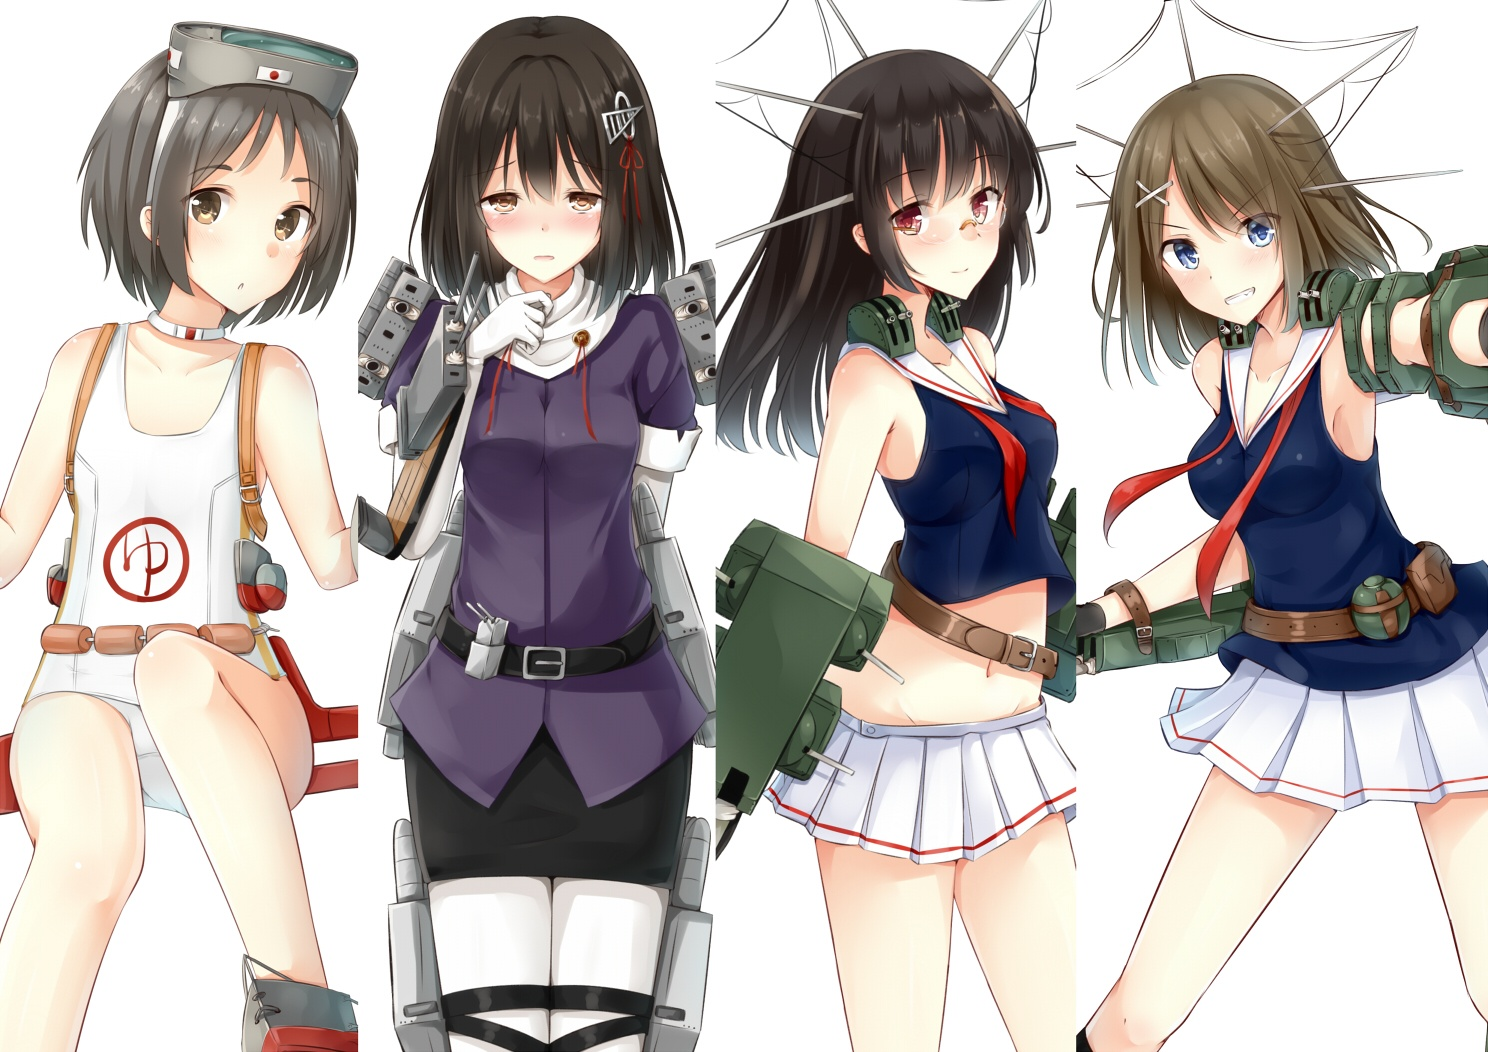纸片人正脸: (85, 31, 362, 326), (1094, 70, 1389, 332), (420, 13, 679, 306), (791, 43, 1046, 311)
